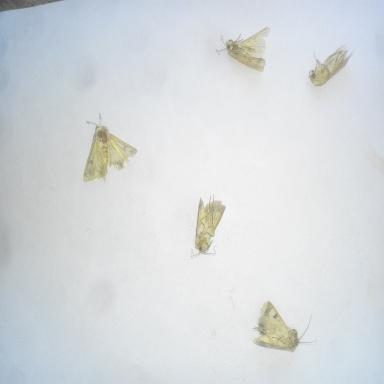abw: (76, 111, 142, 188), (246, 295, 319, 358), (186, 186, 231, 263), (214, 22, 274, 77), (304, 34, 357, 90)
